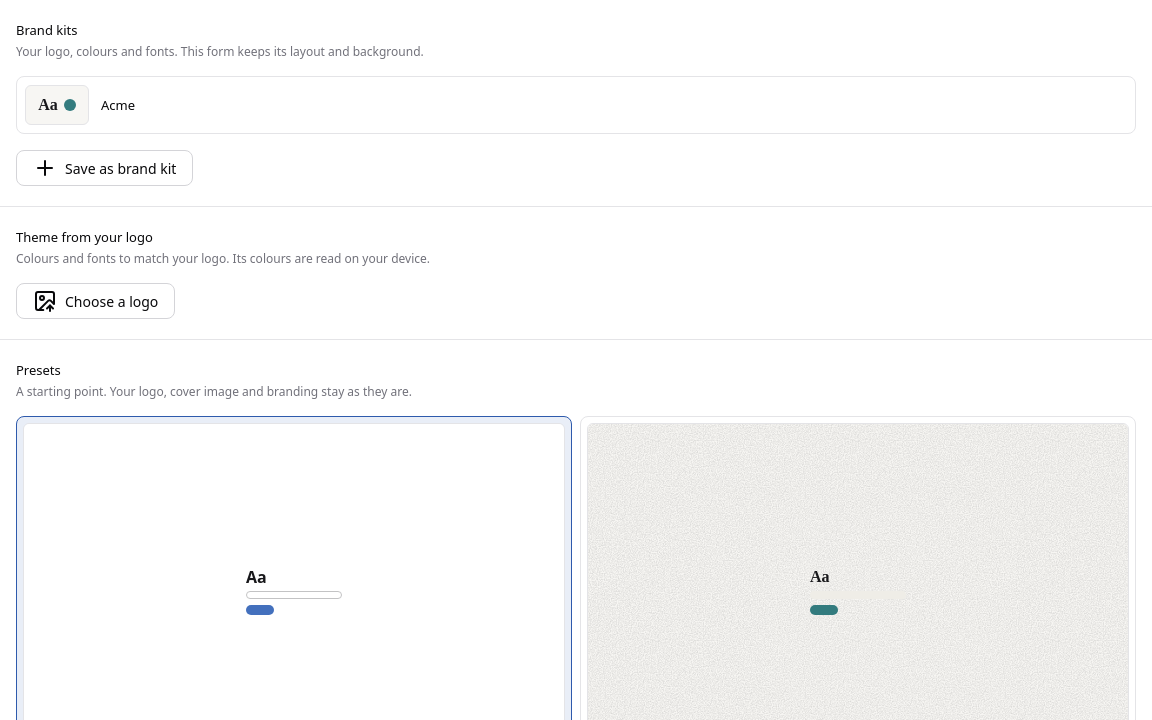
Scenario: brand kits in the Design Studio › applies a kit in one click and shows it as applied
Click the button "Aa Acme" at (57, 105), box [16,76,1136,134]
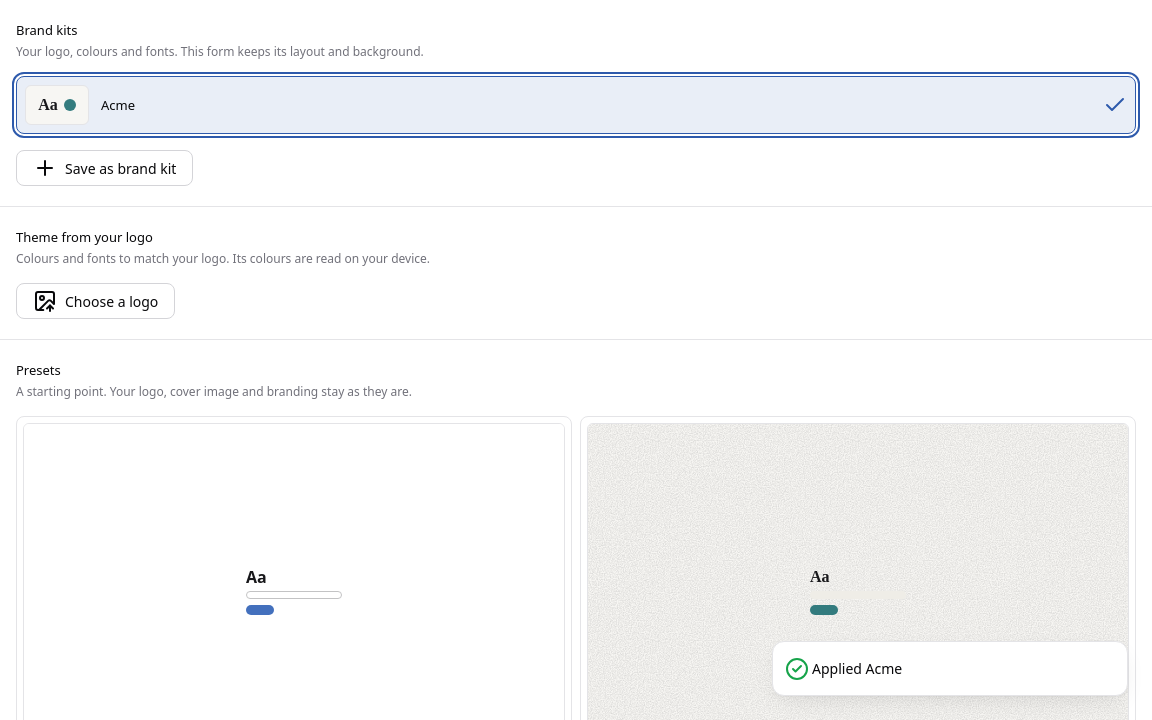
Check: the text "Applied Acme" is shown, box [812,658,902,679]
